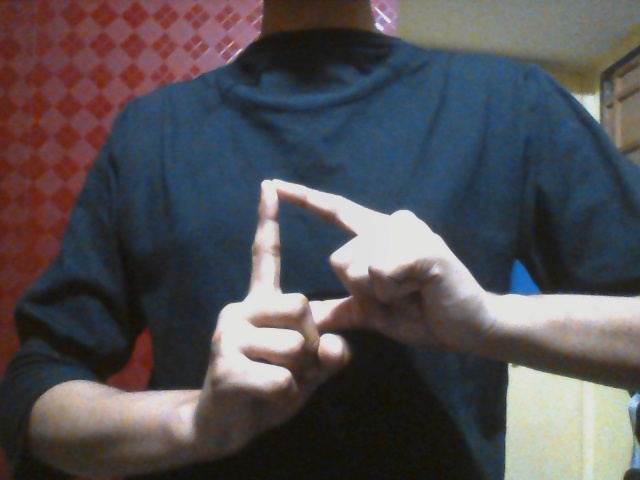D: (201, 177, 475, 452)
